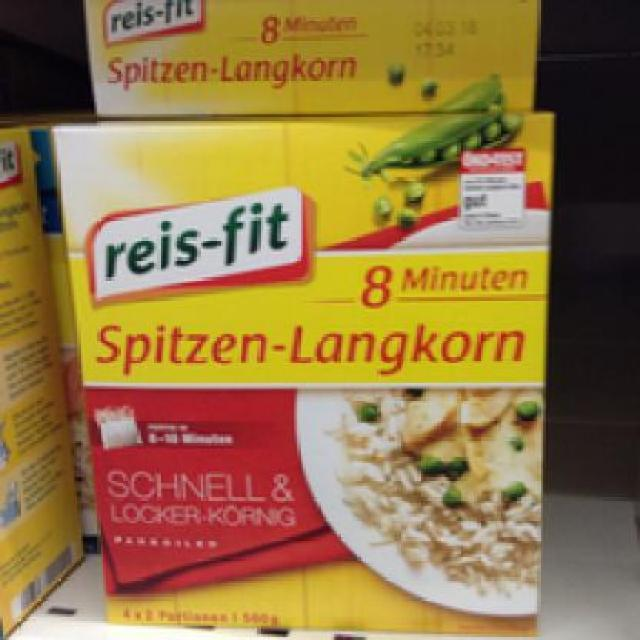Rice: (42, 108, 552, 638)
